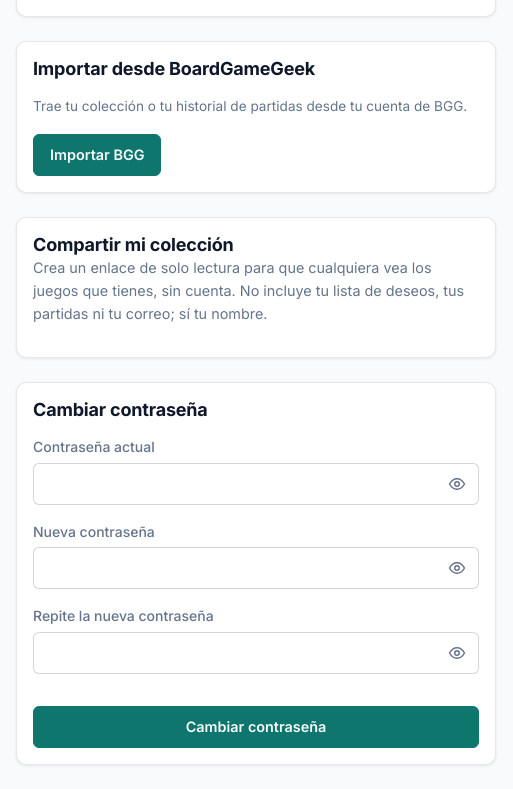
Scenario: ProfileView change password form › changes the password, shows a success message and clears the fields
(page scrolled)
Type "old-password" into the password field with id "current_password" at (256, 484), box [33, 463, 479, 505]
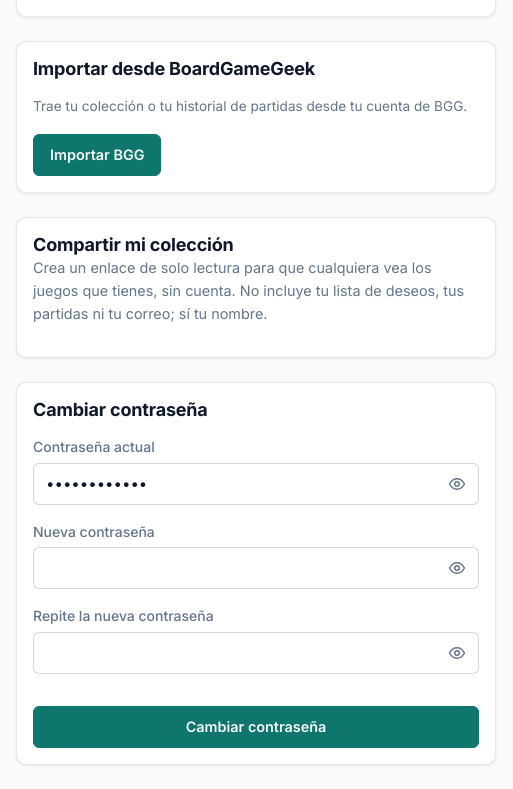
Type "new-password" into the password field with id "new_password" at (256, 568), box [33, 547, 479, 589]
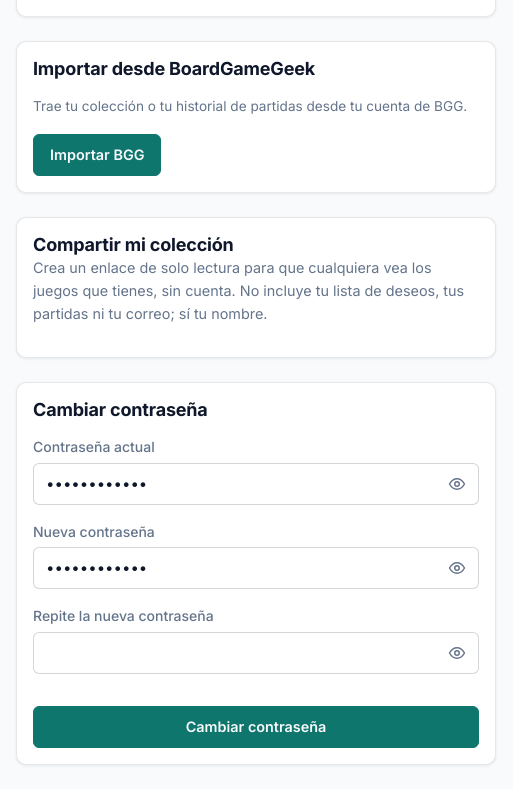
Type "new-password" into the password field with id "new_password_confirmation" at (256, 653), box [33, 632, 479, 674]
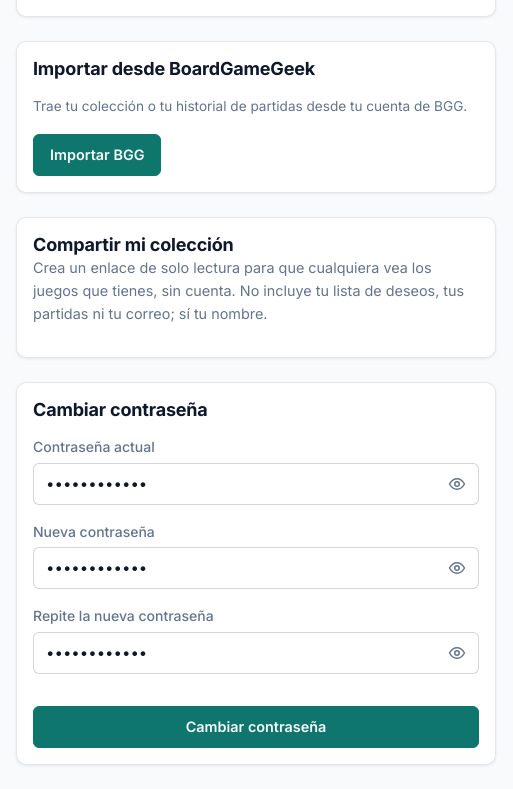
Submit the form that starts with "Contraseña actual", box [33, 436, 479, 748]
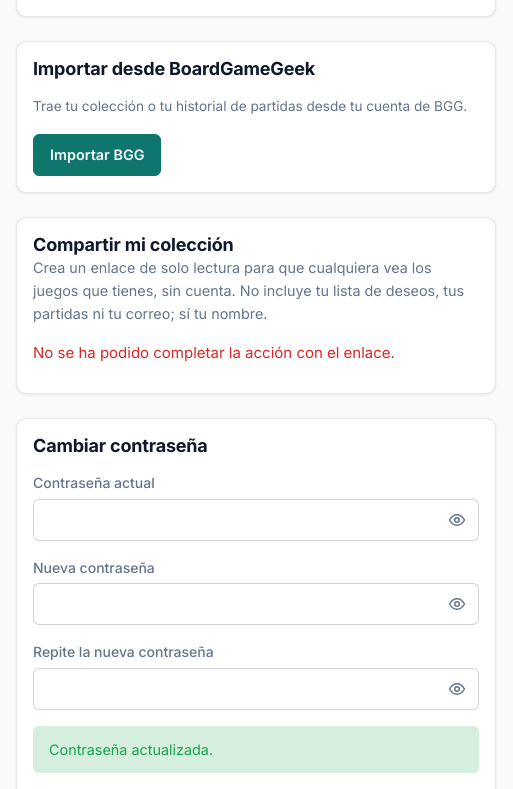
Result: the text "Contraseña actualizada." is shown at [33, 726, 479, 773]
Result: the password field with id "current_password" is empty at [33, 499, 479, 541]
Result: the password field with id "new_password" is empty at [33, 583, 479, 625]
